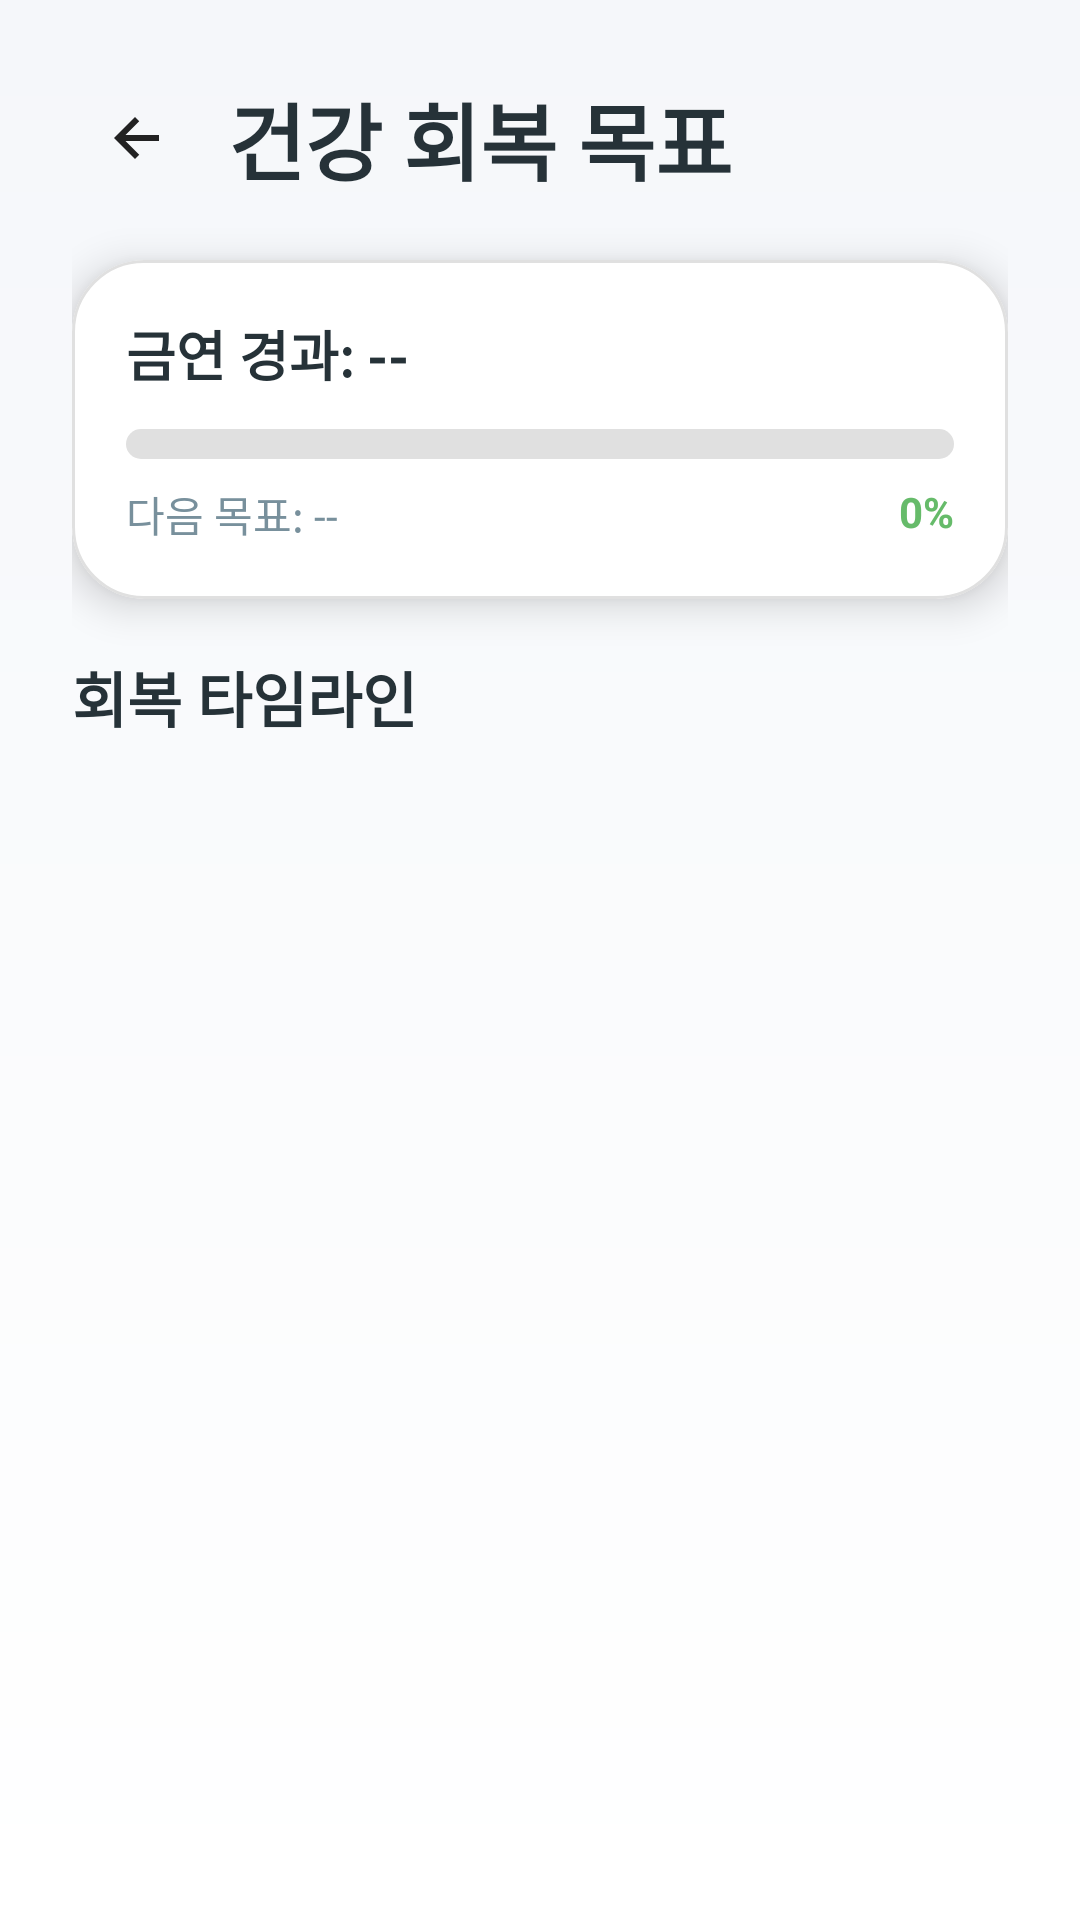

Where icons sit on this 1080*1920 app screen, as rect(x1, y1, x2, y2):
Back: rect(114, 117, 159, 159)
